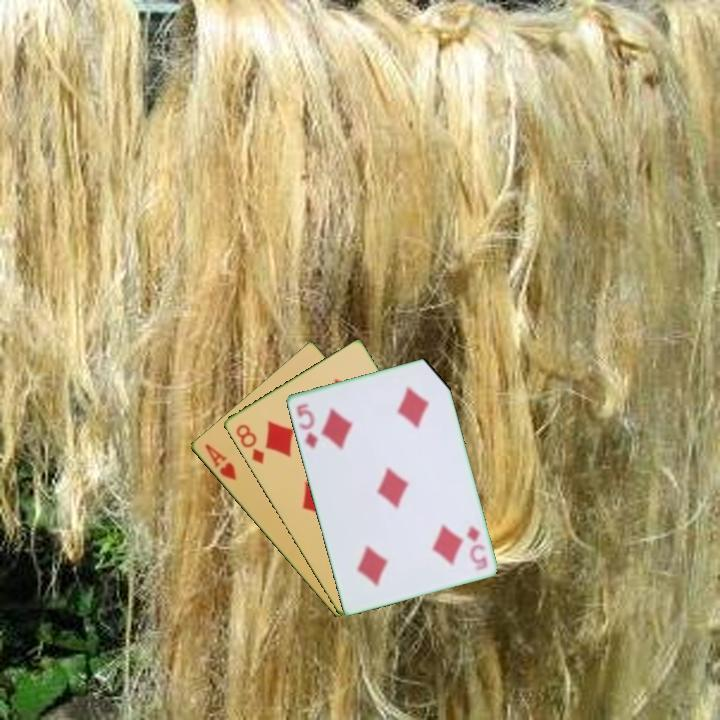5d: (293, 400, 321, 451), (463, 522, 490, 573)
8d: (232, 420, 267, 467)
Ah: (201, 440, 239, 483)
